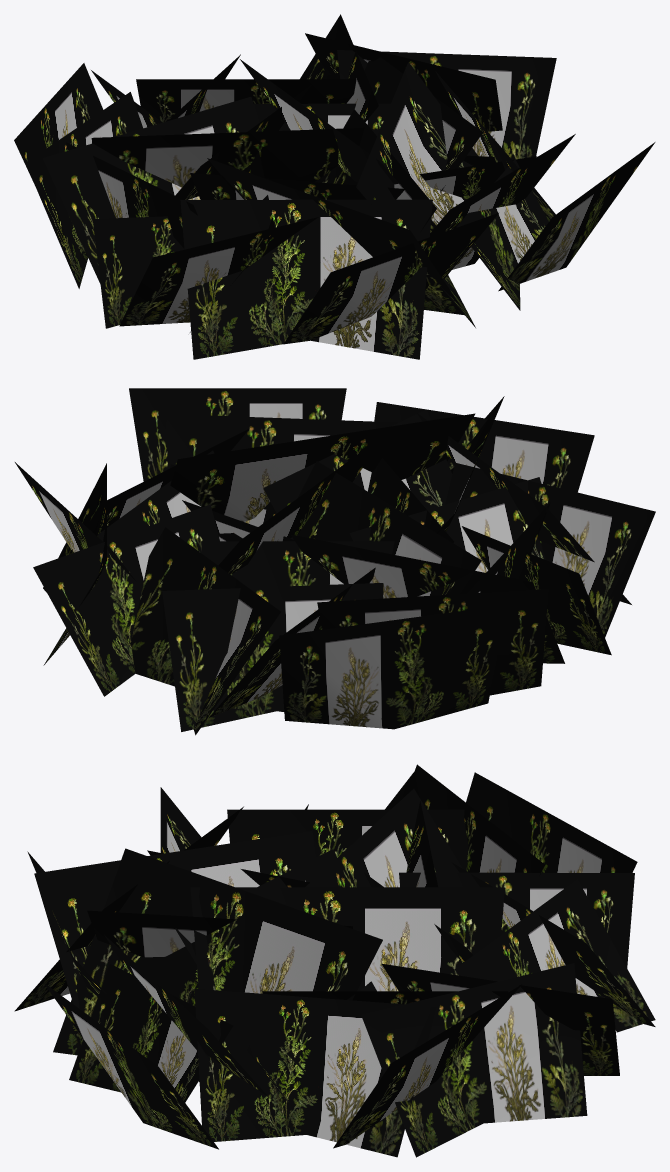
The model's file is grass011.glb.
3 views of the same model, one above another, from view 1: azimuth 30°, elevation 25°; view 2: azimuth 150°, elevation 25°; view 3: azimuth 270°, elevation 25° (orthographic). The views are drawn at different scales.
Parts seen in each view (by area): view 1: grass011; view 2: grass011; view 3: grass011.
Part boxes in pixels (box(x1,y1,x2,y2)): grass011: box(14, 14, 655, 359); grass011: box(15, 388, 655, 735); grass011: box(14, 764, 655, 1157).
Bounding box in the file's own units: 5.45 × 1.4 × 5.21.
Materials: 1 (1 with a texture image).
